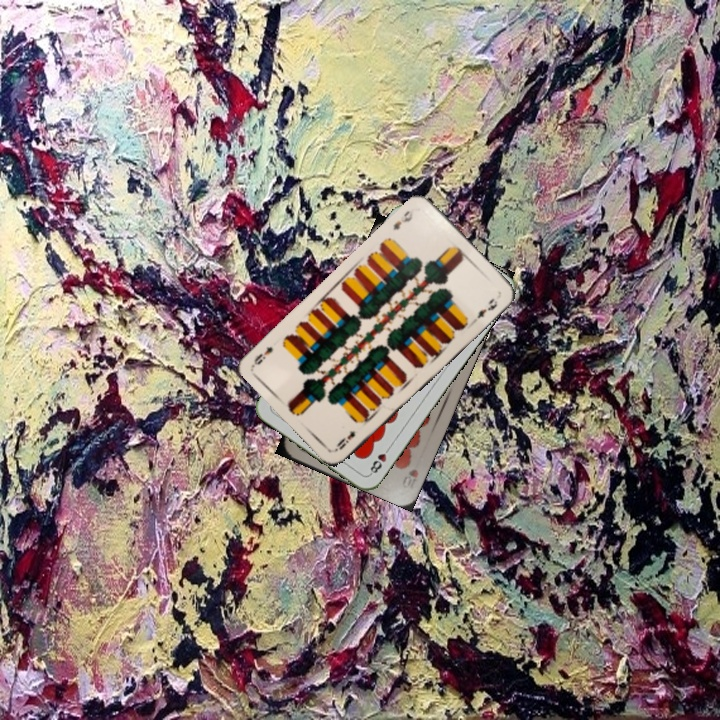E9: (389, 204, 419, 233), (332, 426, 358, 453)
H10: (398, 465, 421, 492)
H8: (366, 442, 394, 477)
